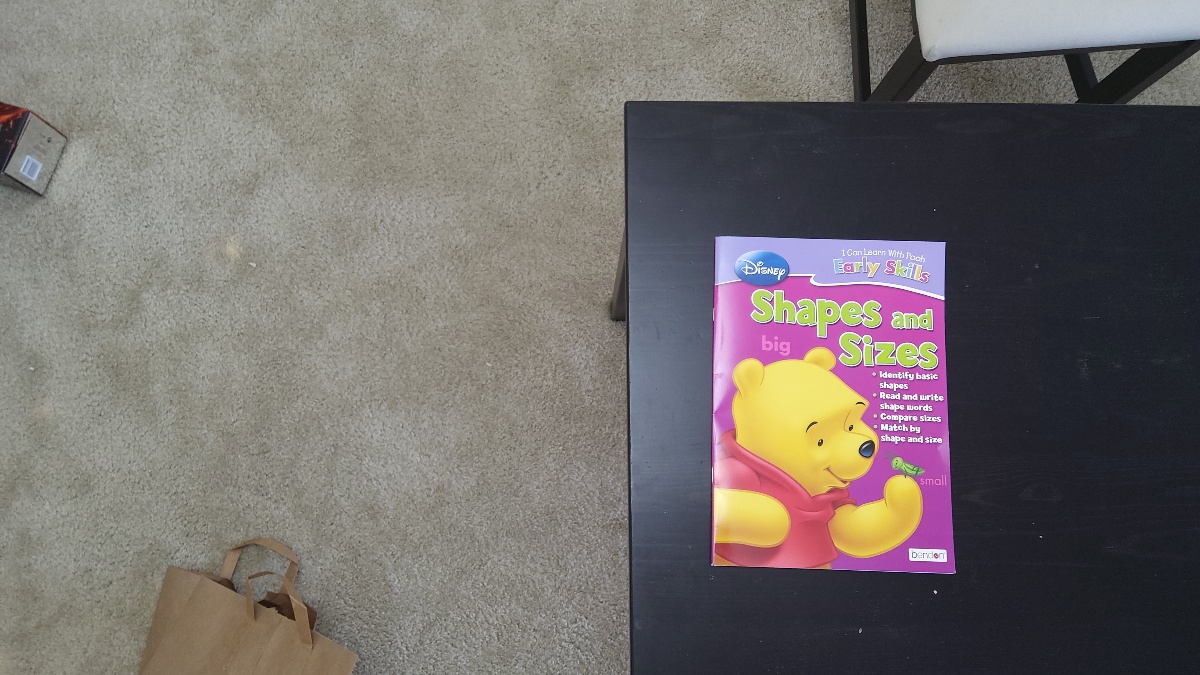book: (714, 237, 948, 573)
